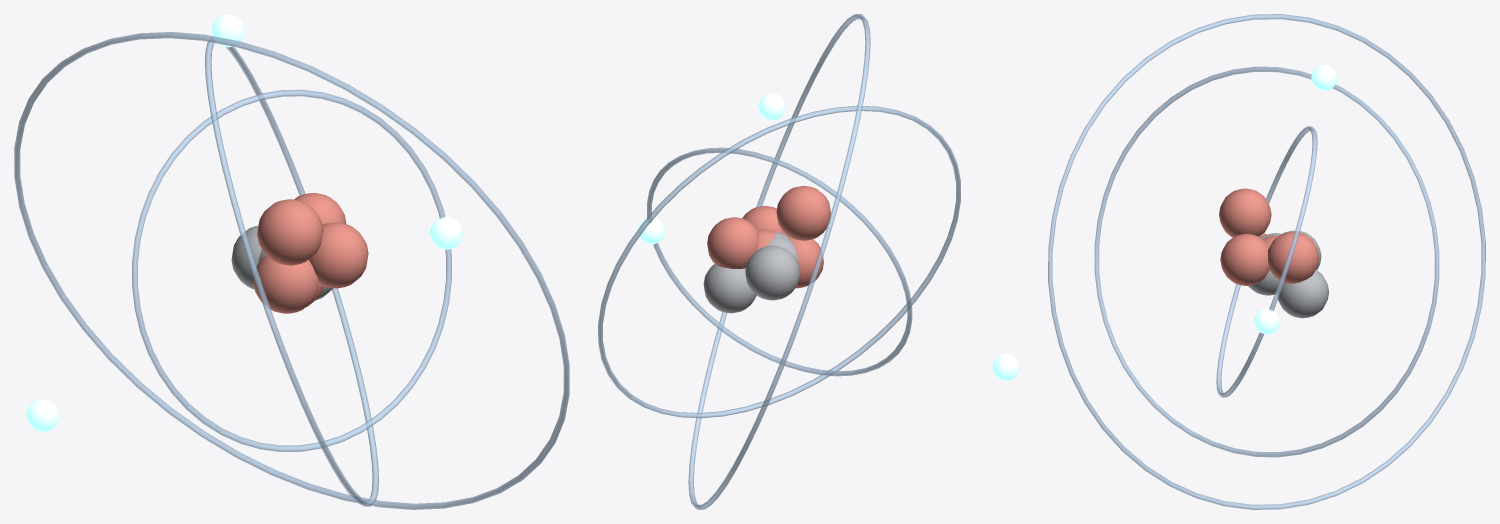
File: atom_nucleus.glb
3 renders of one model, left to right at view 1: azimuth 30°, elevation 25°; view 2: azimuth 150°, elevation 25°; view 3: azimuth 270°, elevation 25°, orthographic. The views are drawn at different scales.
Visible parts, largest first — view 1: Sphere; view 2: Sphere; view 3: Sphere.
Boxes of the visible parts, x1,y1,x2,y2 form: Sphere: (14,14,569,509); Sphere: (598,14,1019,509); Sphere: (1048,14,1485,509).
Bounding box in the file's own units: 0.0433 × 0.05 × 0.0469.
